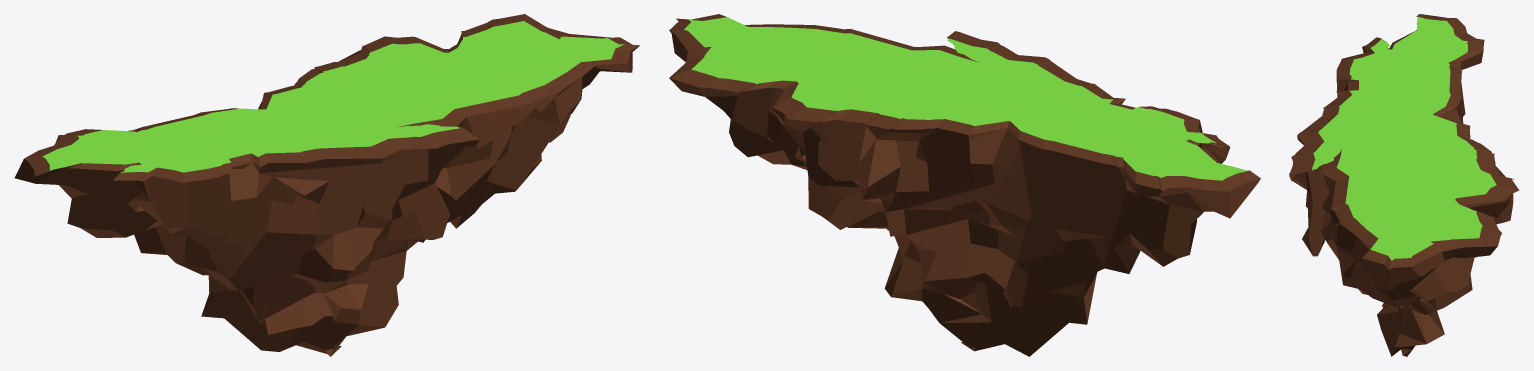
Rendered from island 5 bald.glb.
The picture shows the model from 3 angles, left to right: view 1: azimuth 30°, elevation 25°; view 2: azimuth 150°, elevation 25°; view 3: azimuth 270°, elevation 25°; orthographic projection. The views are drawn at different scales.
Parts seen in each view (by area): view 1: Vert, Vert.001; view 2: Vert, Vert.001; view 3: Vert.001, Vert.
Boxes of the visible parts, left/top/right/bottom form: Vert: left=14, top=14, right=639, bottom=356; Vert.001: left=43, top=21, right=624, bottom=172; Vert: left=669, top=14, right=1260, bottom=356; Vert.001: left=684, top=17, right=1248, bottom=180; Vert.001: left=1312, top=16, right=1496, bottom=260; Vert: left=1289, top=14, right=1519, bottom=356.
Size of the model in its own units: 12.16 by 4.88 by 4.62.
